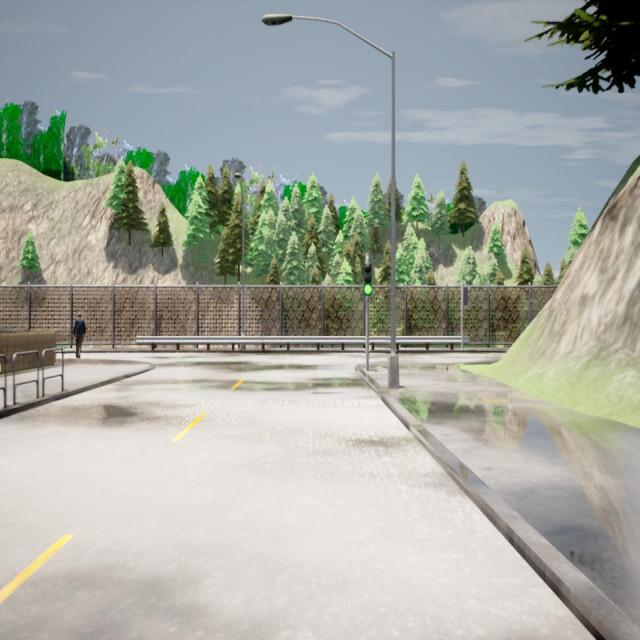Pedestrian: (72, 314, 86, 358)
traffic_light: (364, 264, 372, 295), (463, 287, 469, 305)
